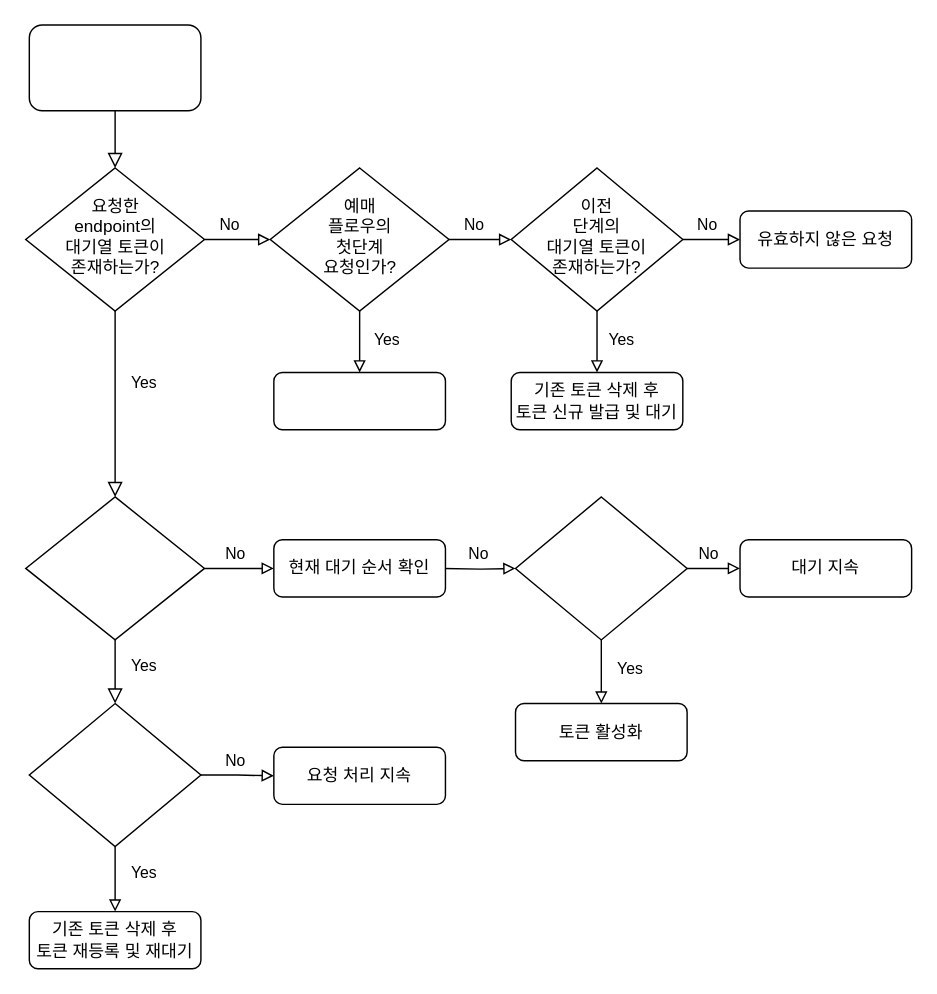
The diagram is 937 pixels wide and 994 high, and some of its shapes have lost their labels. The centre of each missing label's shape, as x and y in pixels:
대기 순서가 도래했는가?: point 600,567
만료 시간을 초과했는가?: point 114,774
요청한 endpoint의 대기열 토큰이 활성화되어 있는가?: point 114,567
유저 토큰에서 유저 정보를 읽은 뒤 대기열 DB 쿼리: point 114,67
토큰 신규 발급 후 대기: point 358,400
